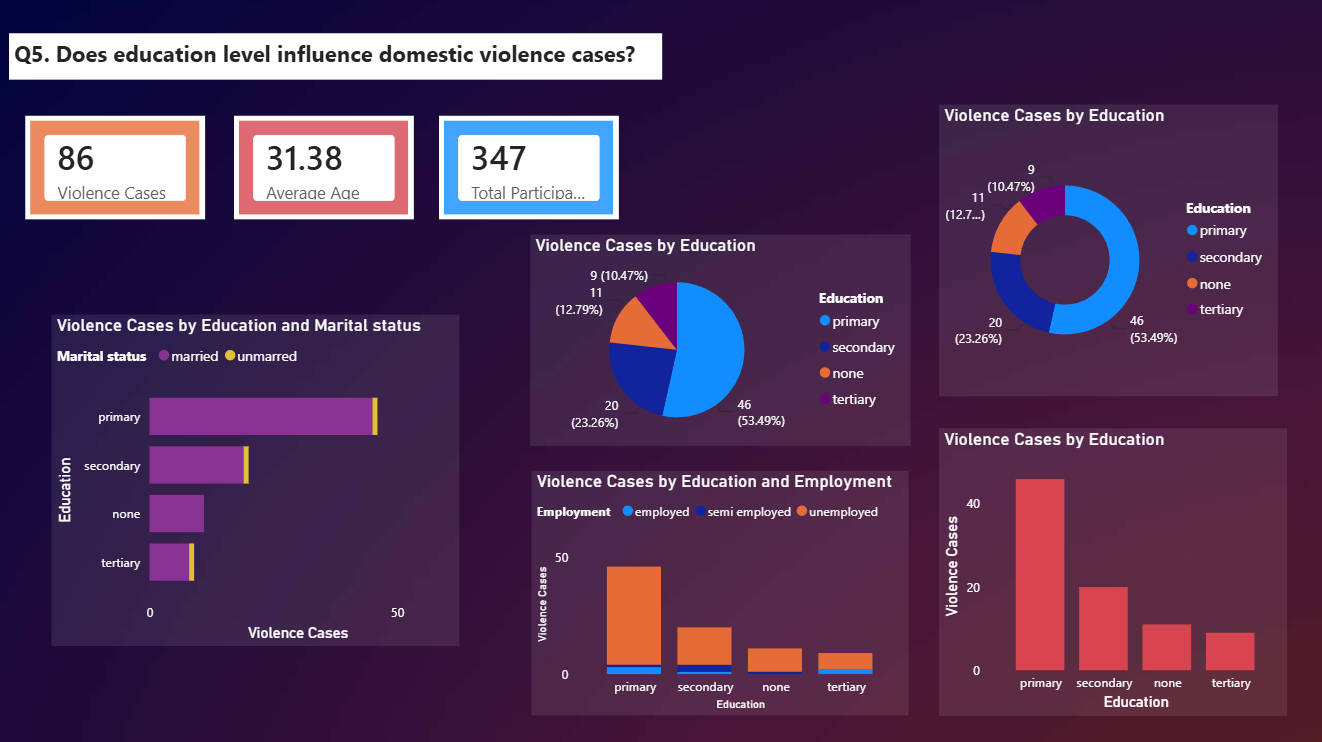

What the dashboard file says about the page in this screenshot:
{"tool":"powerbi","page":{"name":"Page 5","canvas":[1280,720],"ordinal":4},"visuals":[{"type":"textbox","box":[10,35,630,45],"z":2},{"type":"cardVisual","fields":{"Data":["Domestic violence.Violence Cases"]},"box":[25,115,173.8,100],"z":3},{"type":"cardVisual","fields":{"Data":["Domestic violence.Total Participants"]},"box":[425,115,173.8,100],"z":4},{"type":"cardVisual","fields":{"Data":["Domestic violence.Average Age"]},"box":[226.2,115,173.8,100],"z":5},{"type":"columnChart","fields":{"Category":["Domestic violence.Education "],"Y":["Domestic violence.Violence Cases"]},"box":[907.5,416.2,336.2,277.5],"z":6},{"type":"donutChart","fields":{"Category":["Domestic violence.Education "],"Y":["Domestic violence.Violence Cases"]},"box":[907.5,103.8,327.5,281.2],"z":7},{"type":"columnChart","fields":{"Category":["Domestic violence.Education "],"Y":["Domestic violence.Violence Cases"],"Series":["Domestic violence.Employment "]},"box":[513.8,457.5,363.8,236.2],"z":8},{"type":"barChart","fields":{"Category":["Domestic violence.Education "],"Y":["Domestic violence.Violence Cases"],"Series":["Domestic violence.Marital status "]},"box":[51.2,306.2,393.8,320],"z":9},{"type":"pieChart","fields":{"Category":["Domestic violence.Education "],"Y":["Domestic violence.Violence Cases"]},"box":[512.5,228.8,367.5,203.8],"z":10}]}

Visuals, with their boxes in screenshot pixels (x1, y1, x2, y2), scaled from the page's 1280x720 canvas onto the 1322x742 screenshot:
textbox: bbox=(10, 36, 661, 82)
cardVisual - Domestic violence.Violence Cases: bbox=(26, 119, 205, 222)
cardVisual - Domestic violence.Total Participants: bbox=(439, 119, 618, 222)
cardVisual - Domestic violence.Average Age: bbox=(234, 119, 413, 222)
columnChart - Domestic violence.Education  x Domestic violence.Violence Cases: bbox=(937, 429, 1285, 715)
donutChart - Domestic violence.Education  x Domestic violence.Violence Cases: bbox=(937, 107, 1276, 397)
columnChart - Domestic violence.Education  x Domestic violence.Violence Cases: bbox=(531, 471, 906, 715)
barChart - Domestic violence.Education  x Domestic violence.Violence Cases: bbox=(53, 316, 460, 645)
pieChart - Domestic violence.Education  x Domestic violence.Violence Cases: bbox=(529, 236, 909, 446)
